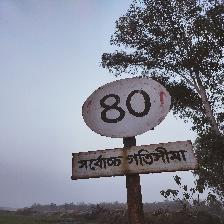Speed-limit: (73, 75, 195, 180)
